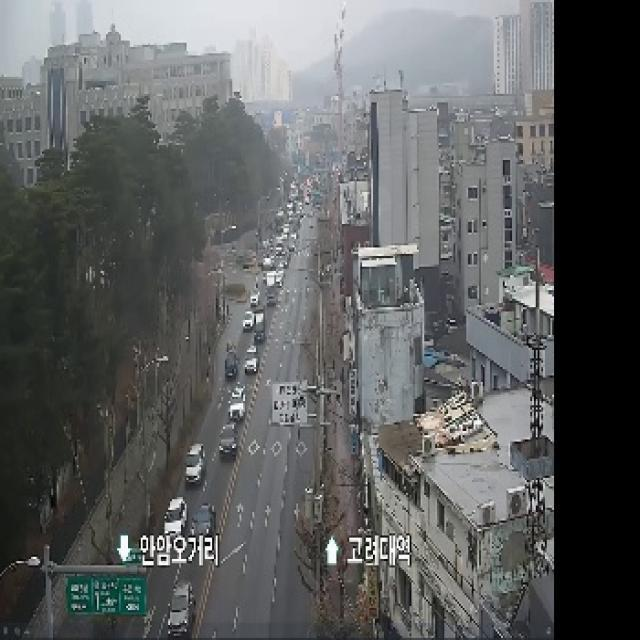car: (168, 582, 191, 640), (164, 498, 188, 533), (185, 444, 205, 485), (218, 422, 238, 460), (191, 504, 215, 534), (225, 351, 239, 379), (242, 311, 255, 332), (231, 385, 245, 401), (245, 358, 258, 373), (250, 294, 259, 307)
road-signs: (66, 575, 146, 614)
